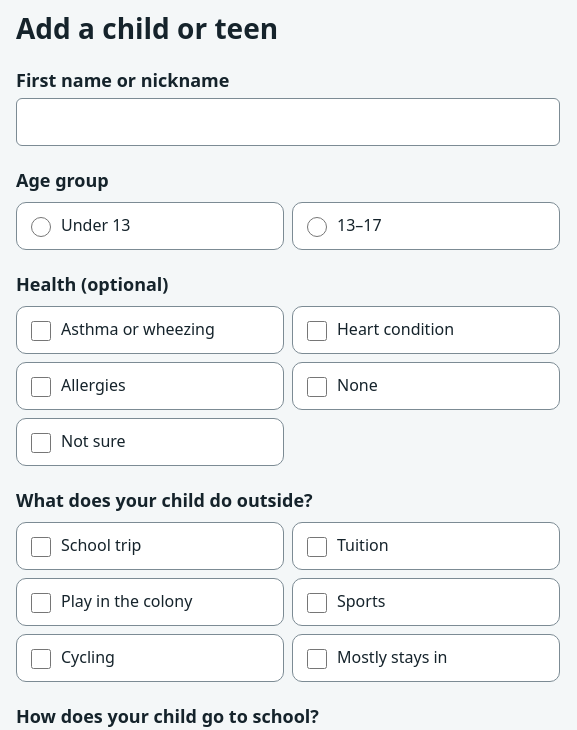
Scenario: dependent form branches › 'Mostly stays in' clears the outside picks and their times
Click the checkbox labelled "School trip" at [41, 547], box x1=31 y1=537 x2=51 y2=557
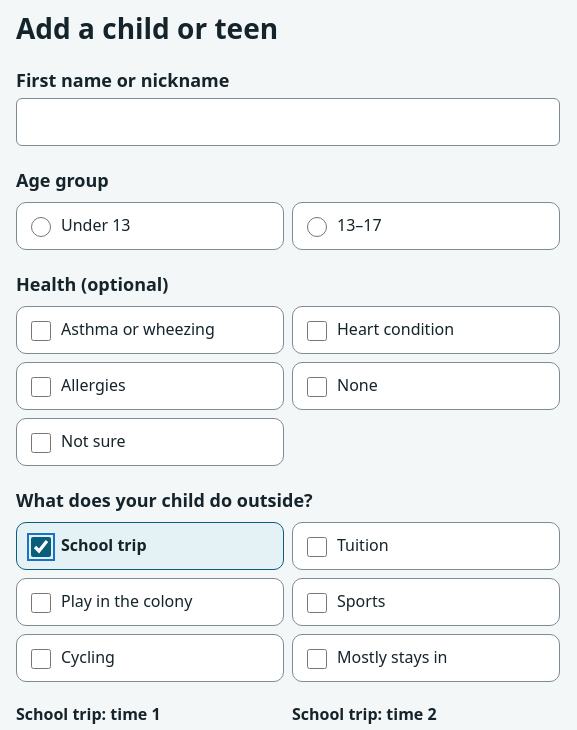
Click the checkbox labelled "Mostly stays in" at [317, 659], box x1=307 y1=649 x2=327 y2=669
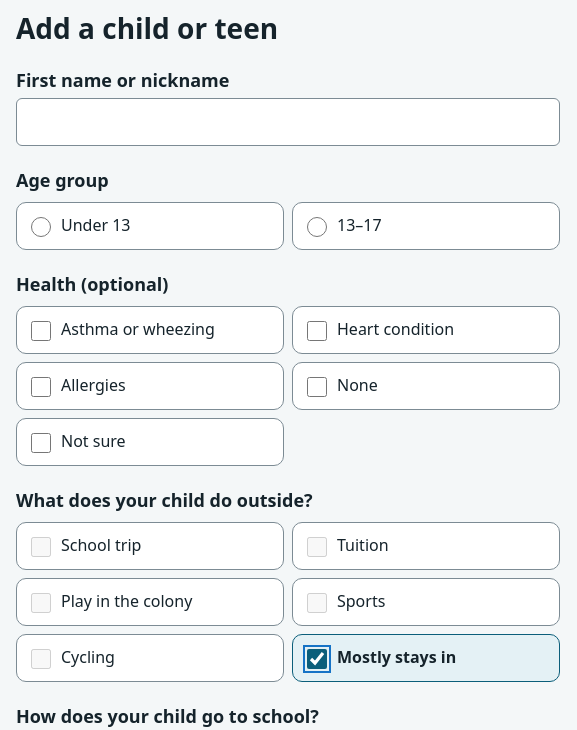
expect the checkbox labelled "Mostly stays in" is checked: met, box x1=307 y1=649 x2=327 y2=669
expect the checkbox labelled "School trip" is not checked: met, box x1=31 y1=537 x2=51 y2=557
expect the label labelled "School trip: time 1" is gone: met
